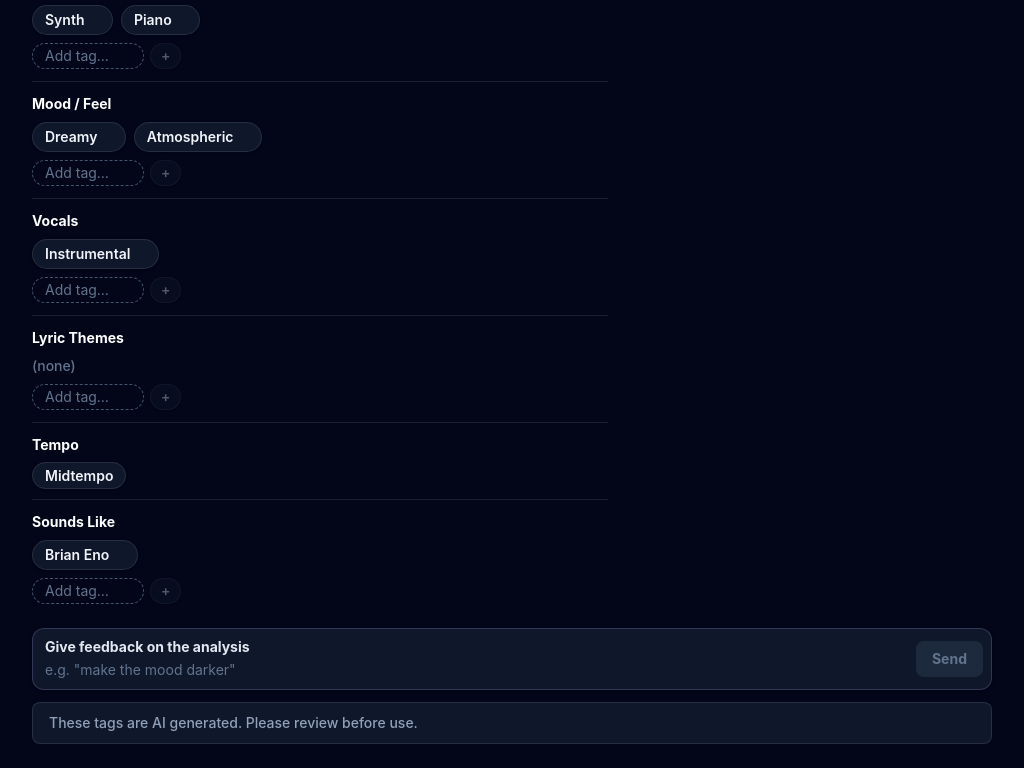
Scenario: ResultsPage › enables the Send button when there is input text
(page scrolled)
Type "make it darker" into the field labelled "Give feedback on the analysis".
click(473, 670); type("make it darker")  # box [45,660,902,680]
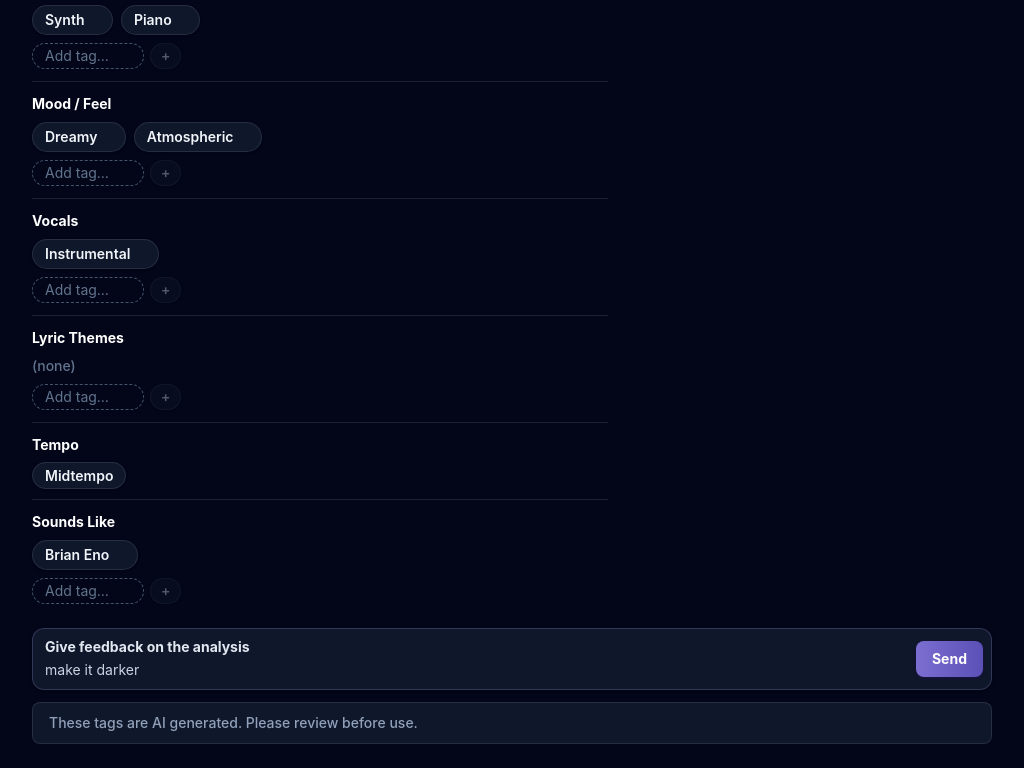
Result: the button "Send" is enabled at [916,641,983,677]
